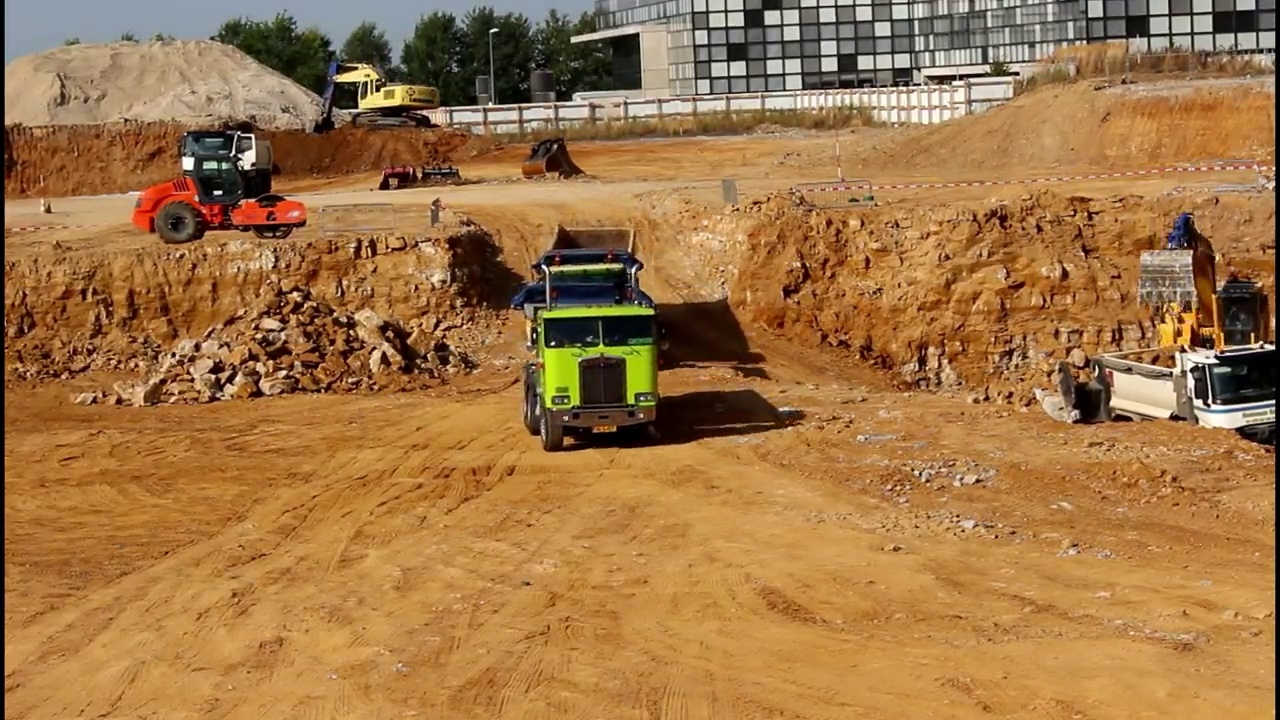compactor: (130, 152, 312, 245)
excavator: (1115, 205, 1280, 392), (308, 55, 446, 140)
truck: (1071, 334, 1280, 463), (509, 296, 673, 454), (518, 206, 653, 358), (171, 112, 283, 212)
